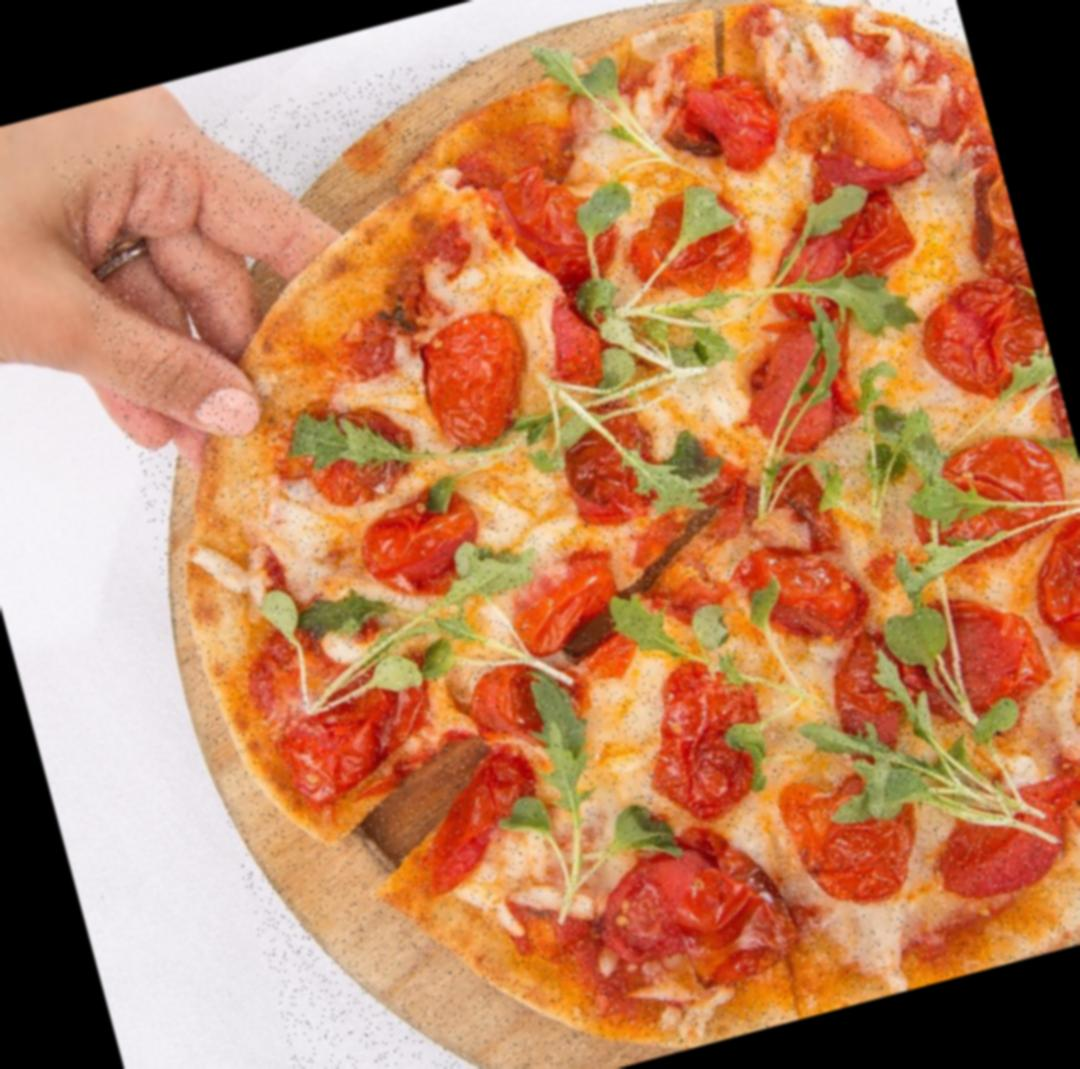Arugula: (810, 647, 1057, 881), (477, 672, 662, 913), (300, 546, 538, 712), (741, 188, 917, 366), (560, 245, 740, 411), (264, 376, 448, 516), (535, 28, 686, 194), (798, 392, 956, 528), (858, 514, 1000, 629), (614, 412, 725, 528)
Pizza: (50, 0, 1080, 1069)
Tomatoes: (590, 818, 782, 1007), (778, 768, 936, 924), (620, 654, 782, 805), (262, 669, 413, 800), (408, 755, 540, 884), (943, 770, 1076, 893), (914, 589, 1035, 718), (738, 330, 864, 440), (920, 439, 1048, 546), (814, 631, 929, 748), (357, 491, 478, 598), (418, 322, 532, 434), (754, 532, 859, 640), (560, 416, 670, 514), (682, 72, 780, 180), (931, 284, 1026, 394), (499, 176, 602, 274), (512, 565, 622, 652), (811, 94, 905, 194), (1029, 522, 1080, 651), (468, 660, 539, 735)
